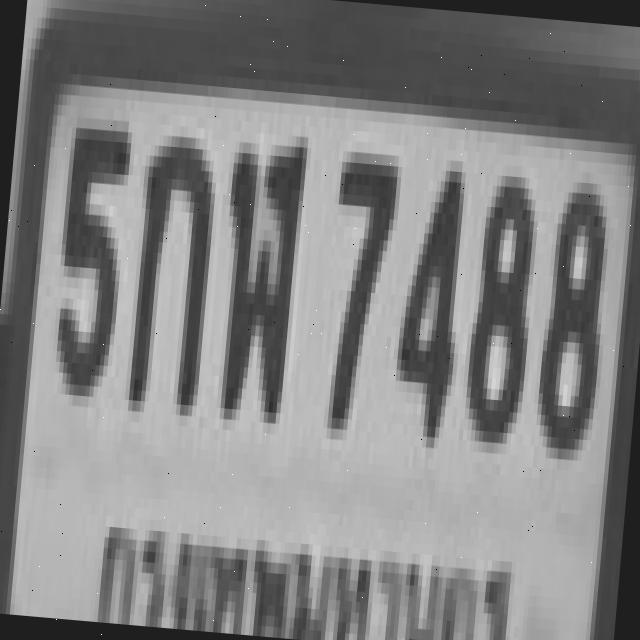10GorGai: (125, 123, 216, 405)
4: (386, 156, 466, 438)
5: (45, 116, 128, 387)
51LorChula: (208, 120, 305, 413)
7: (316, 140, 396, 421)
8: (530, 169, 610, 450), (459, 163, 538, 433)
